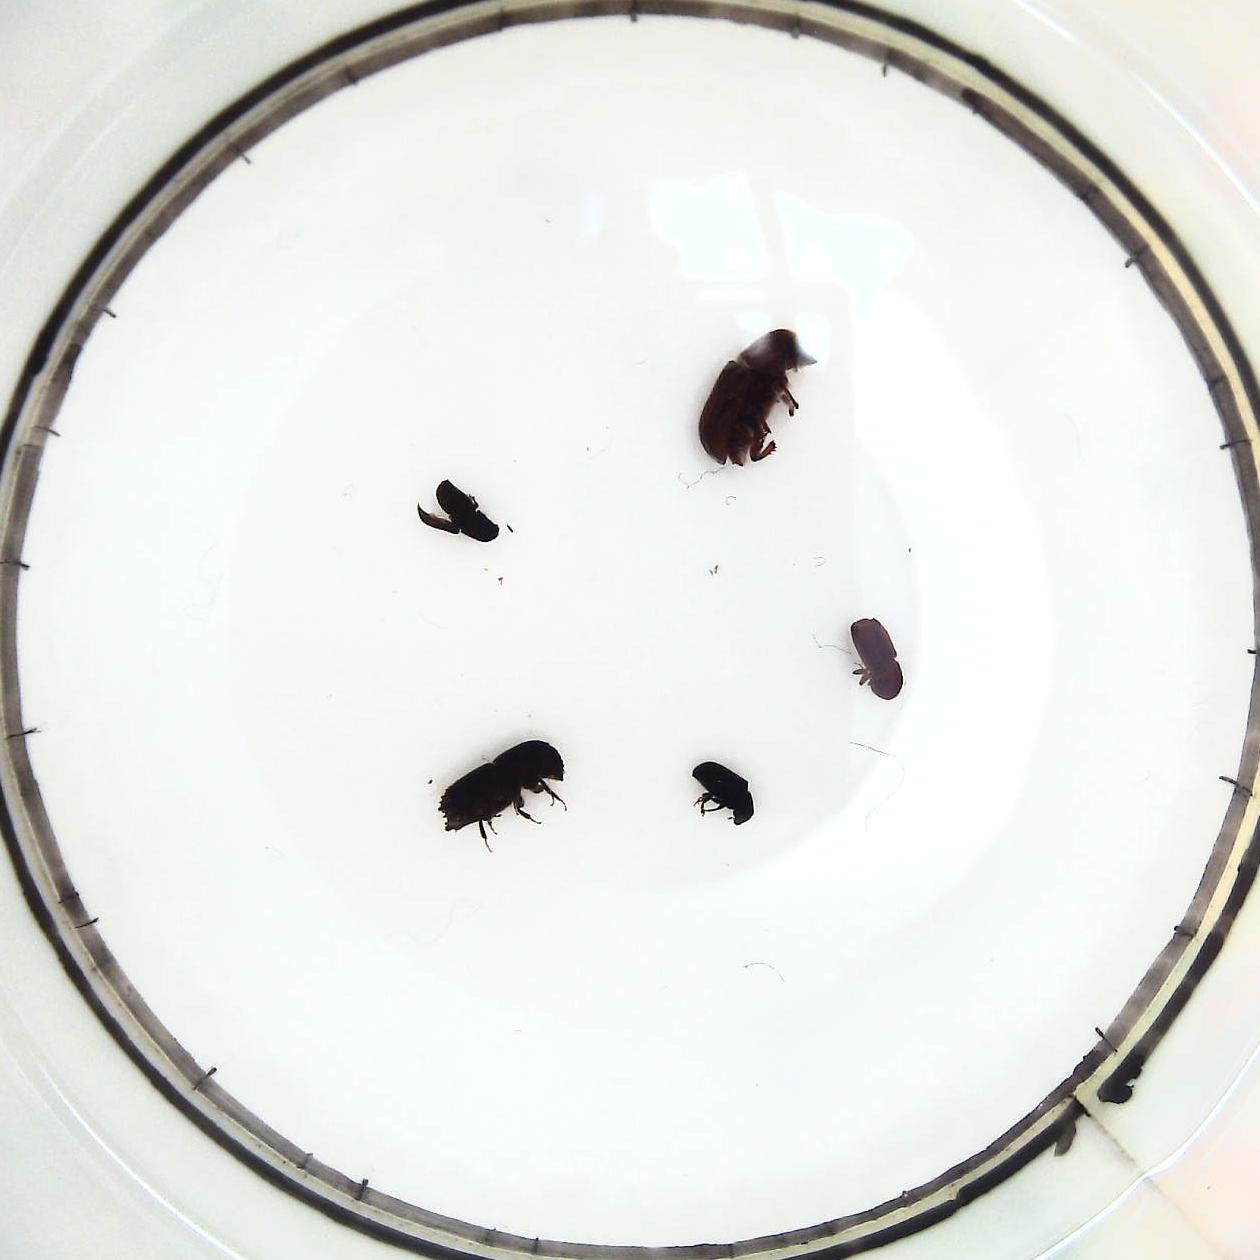Boerner: (437, 737, 571, 854)
Leconte: (700, 322, 817, 468)
armandi: (412, 477, 505, 547)
coleoptera: (688, 753, 762, 832)
linnaeus: (846, 615, 907, 708)
